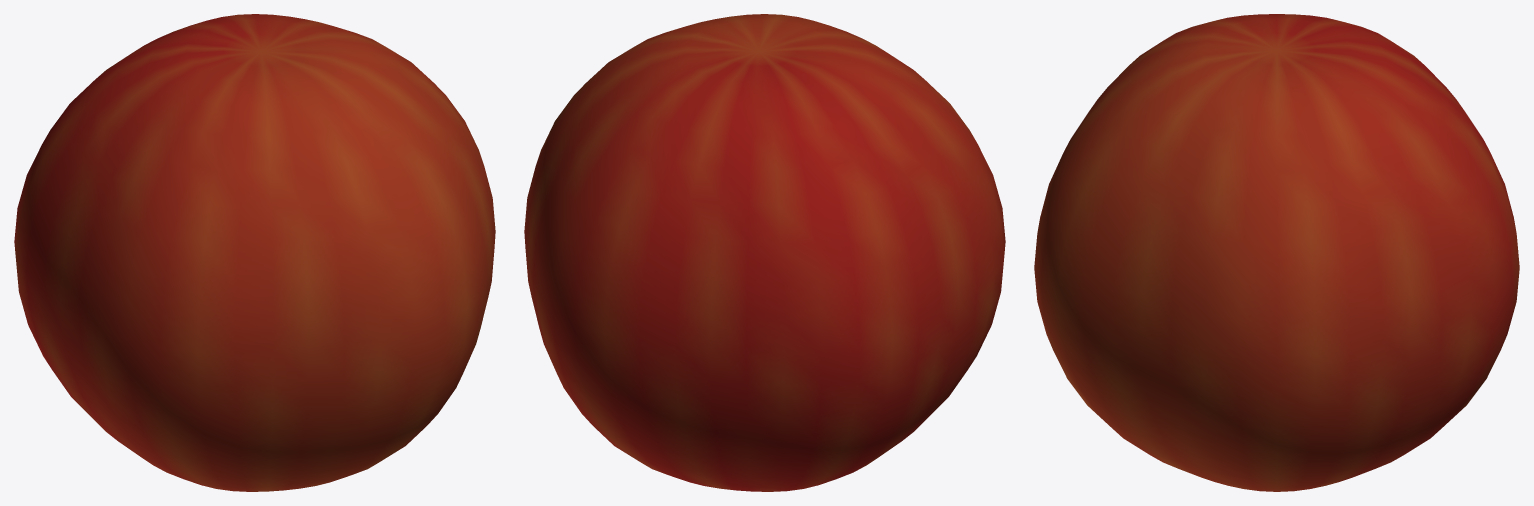
File: apple.glb
The picture shows the model from 3 angles, left to right: view 1: azimuth 30°, elevation 25°; view 2: azimuth 150°, elevation 25°; view 3: azimuth 270°, elevation 25°; orthographic projection.
Parts seen in each view (by area): view 1: Apple.003; view 2: Apple.003; view 3: Apple.003.
Boxes of the visible parts, x1,y1,x2,y2 form: Apple.003: (14,14,495,491); Apple.003: (524,14,1005,491); Apple.003: (1034,14,1519,491).
Size of the model in its own units: 0.08 by 0.0772 by 0.081.
